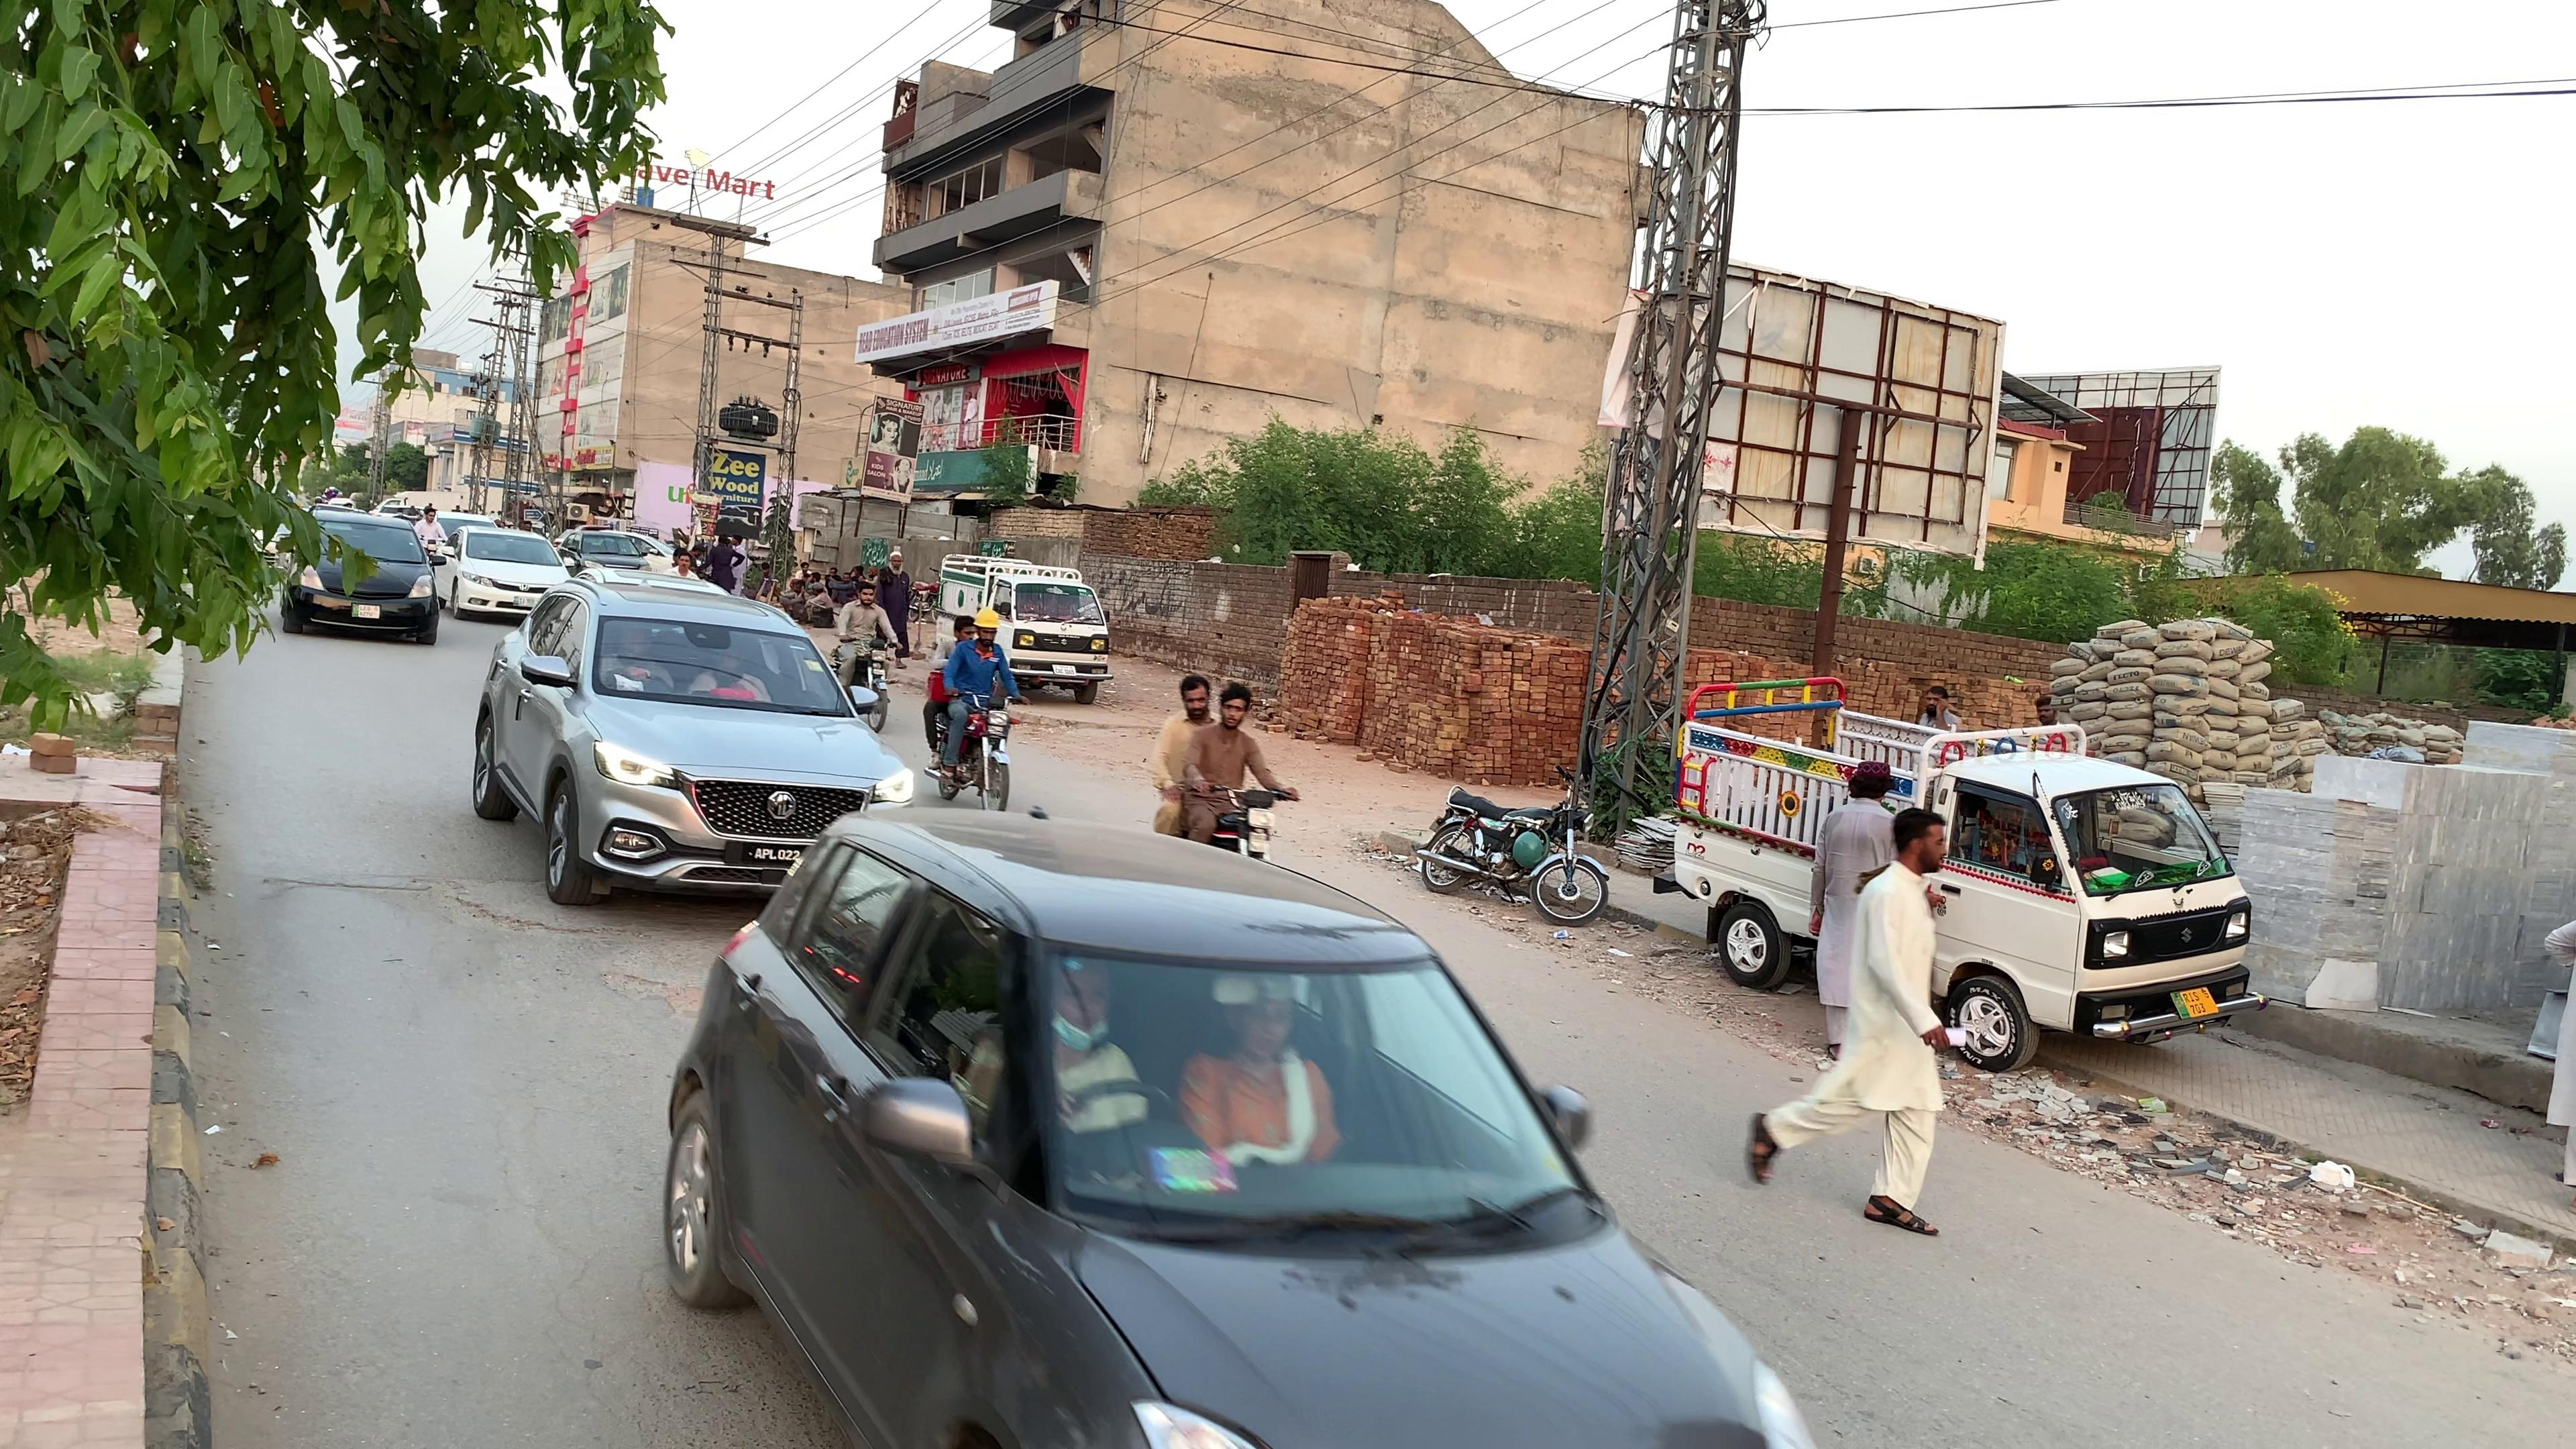windshield: (1028, 916, 1631, 1254), (587, 596, 851, 717)
